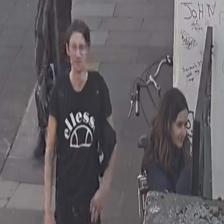person: (43, 18, 117, 224), (140, 87, 192, 224)
